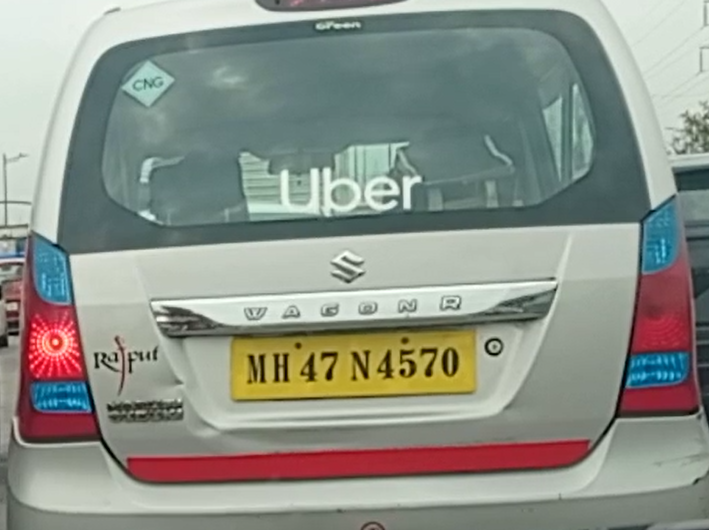MH47N4570: (229, 326, 477, 398)
